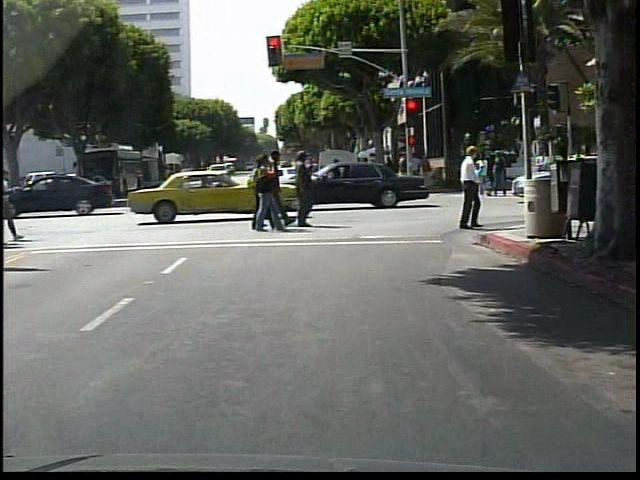person: (450, 142, 492, 235)
